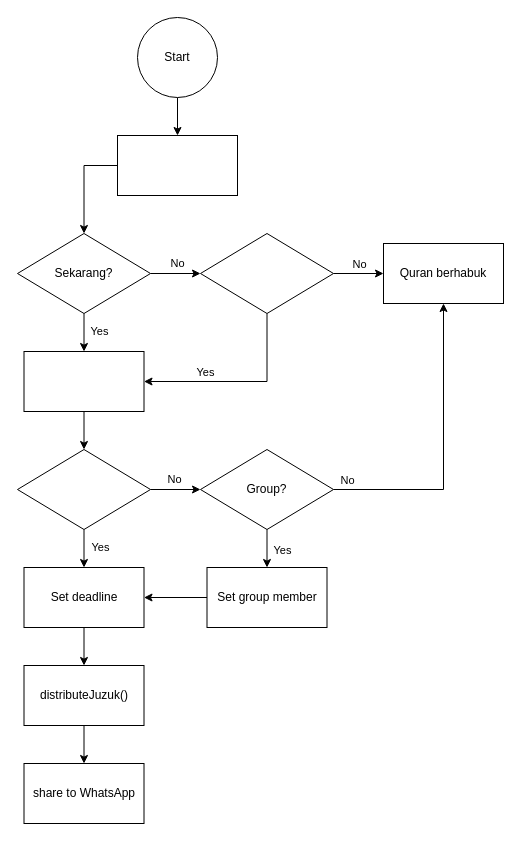
Some shapes in this 521 by 841 pixel diagram are drawn without their labels. The shapes that lost their labels are listed below. From the top down, each one's centre as x and y in pixels, then its label:
At pixel 177 165: "Khatam bila".
At pixel 267 273: "Ramadhan?".
At pixel 83 381: "Solo ke group".
At pixel 83 489: "Solo?".
